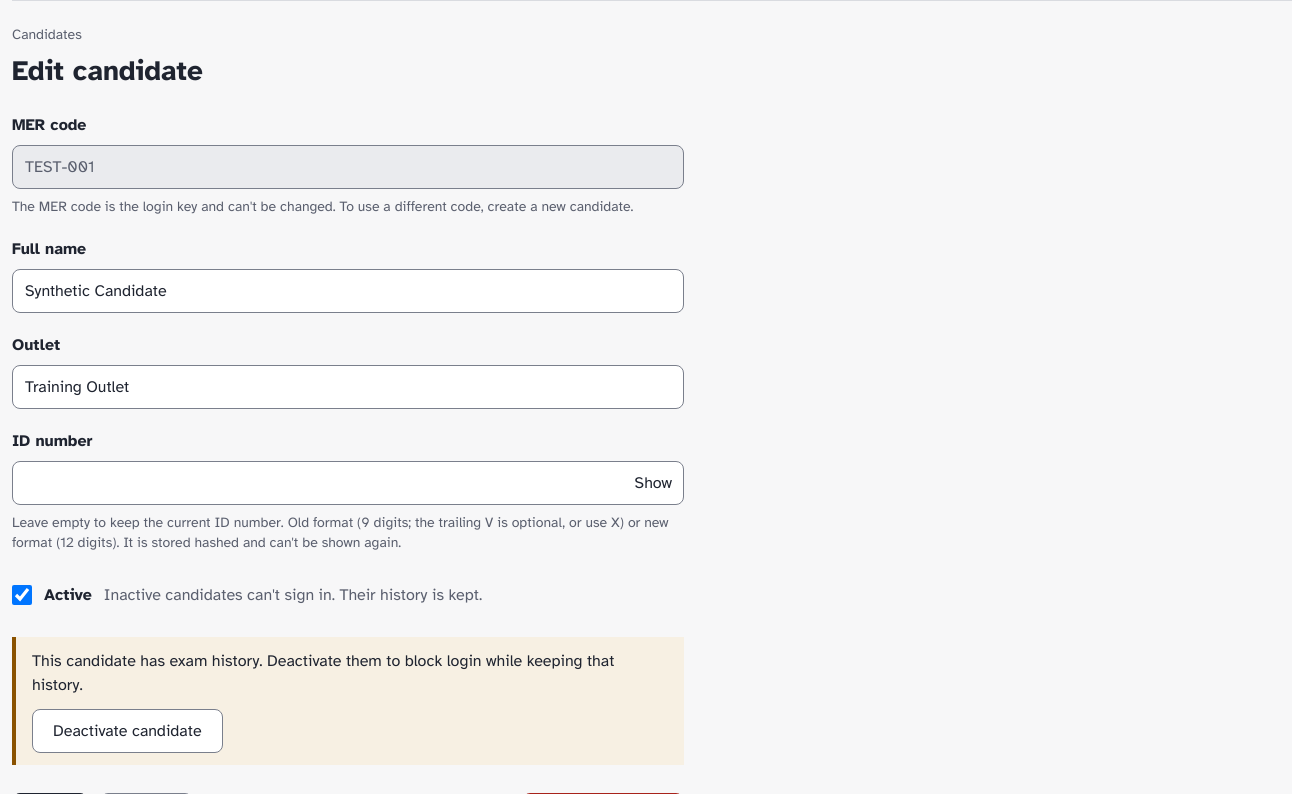
CandidateForm › shows deactivate failures as persistent toasts
What coordinates should you click on to do the following:
click the button "Deactivate candidate"
I would click on:
 (127, 731)
Its box is [32, 709, 223, 753].
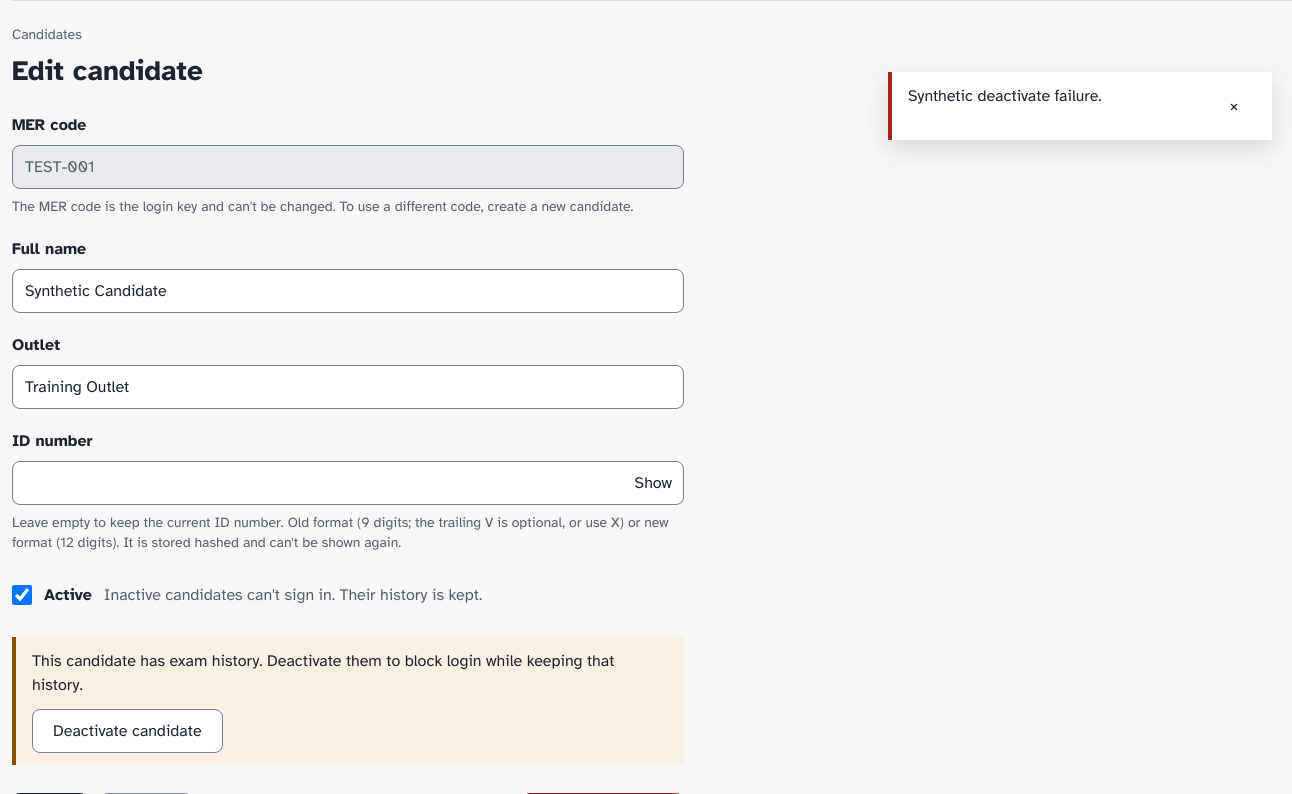
Result: the text "Synthetic deactivate failure." is shown at [908, 84, 1102, 108]
